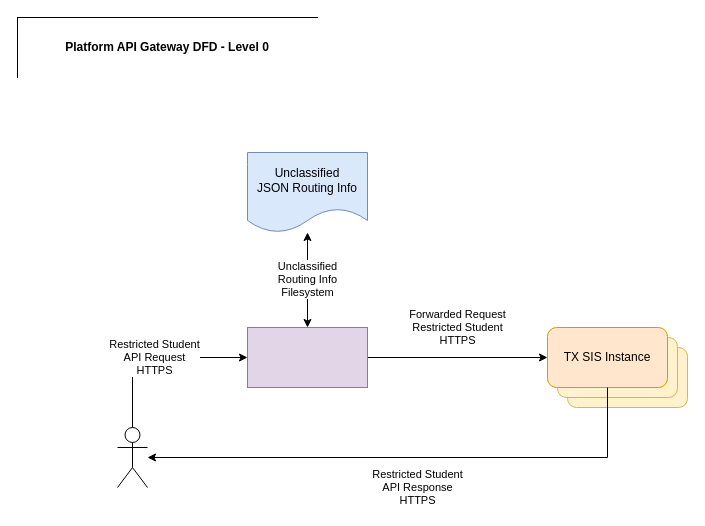
Some shapes in this 705 by 526 pixel diagram are drawn without their labels. The shapes that lost their labels are listed below. From the top down, each one's centre as x and y in pixels, then its label:
the point at 307,357: Butler Gateway
the point at 132,457: Authorized User
